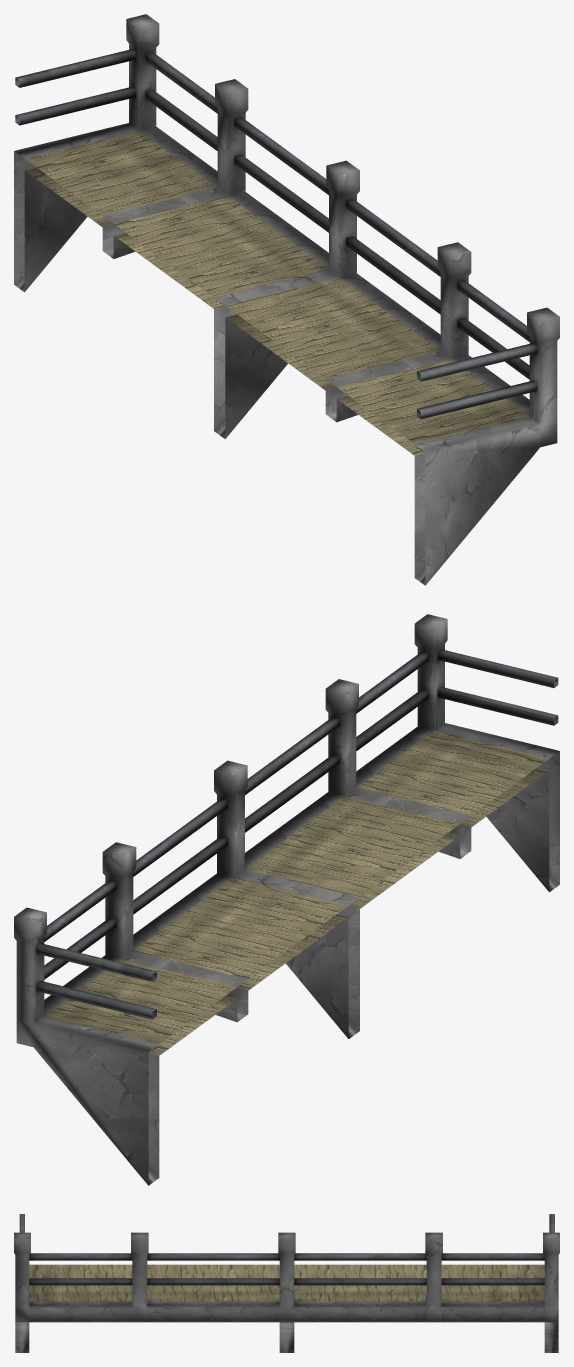
File: Balcony.fbx
3 renders of one model, top to bottom at view 1: azimuth 30°, elevation 25°; view 2: azimuth 150°, elevation 25°; view 3: azimuth 270°, elevation 25°, orthographic. The views are drawn at different scales.
Parts seen in each view (by area): view 1: Cube_033; view 2: Cube_033; view 3: Cube_033.
Part boxes in pixels (box(x1,y1,x2,y2)): Cube_033: box(14, 14, 559, 585); Cube_033: box(14, 614, 559, 1185); Cube_033: box(14, 1214, 559, 1352).
Size of the model in its own units: 2.05 by 3.44 by 10.87.
